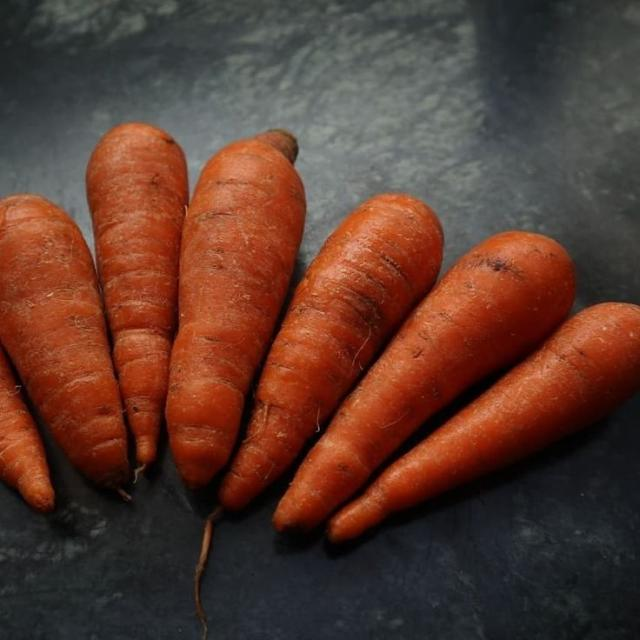carrot: (274, 232, 574, 530), (329, 303, 639, 541), (220, 194, 442, 510), (167, 130, 305, 487), (0, 195, 129, 487), (87, 123, 188, 467), (0, 347, 54, 512)
